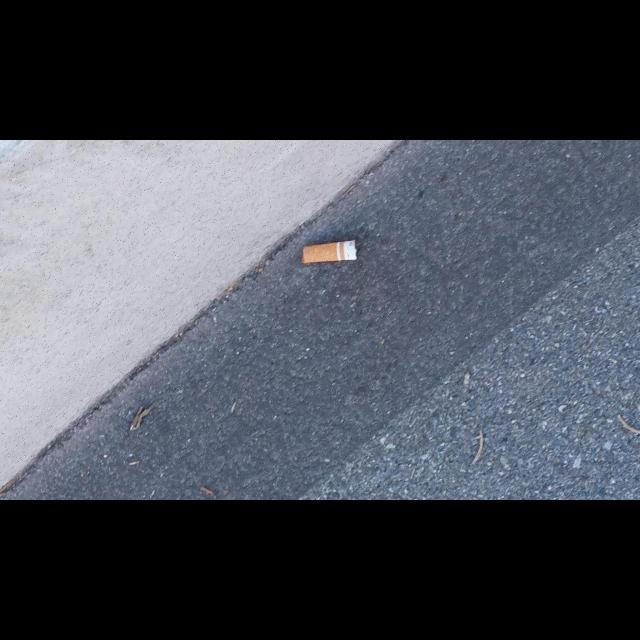cigarette: (300, 239, 358, 265)
